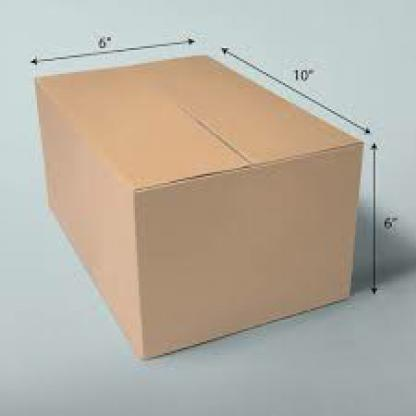box: (26, 52, 372, 372)
